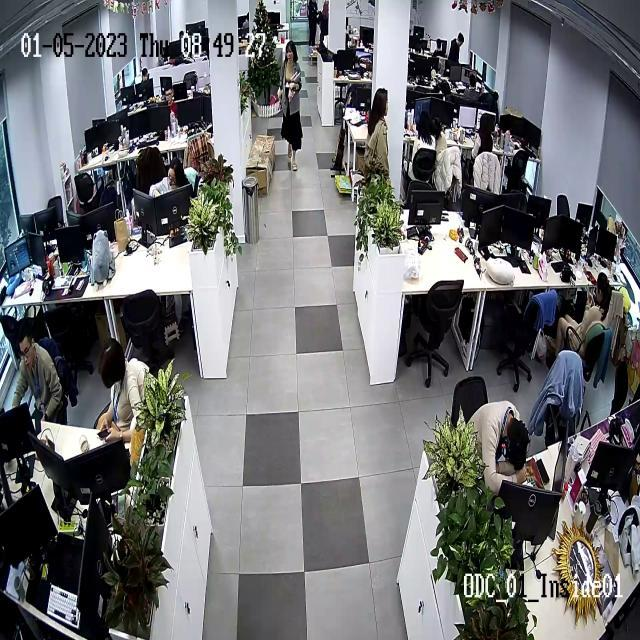person: (10, 321, 66, 427), (94, 339, 150, 444), (469, 400, 532, 483), (554, 273, 614, 352), (280, 41, 304, 172), (365, 89, 390, 186), (414, 109, 437, 183), (475, 109, 500, 176), (150, 156, 185, 202), (446, 32, 463, 78), (161, 80, 177, 111)
